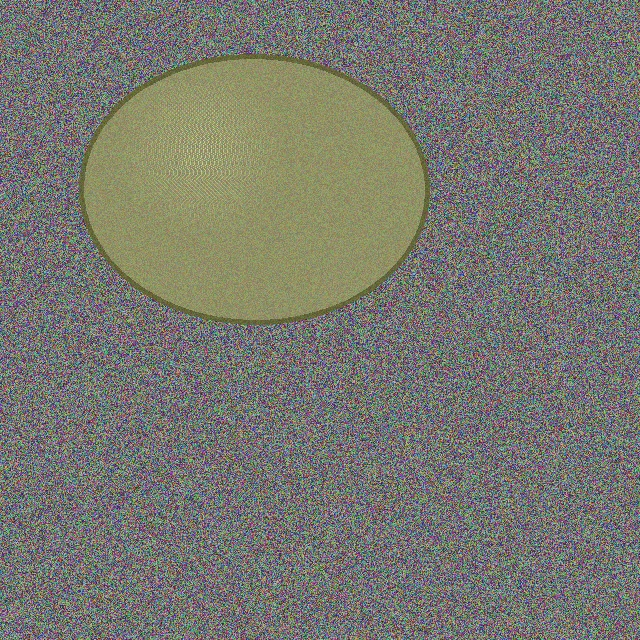lens: (81, 56, 427, 322)
